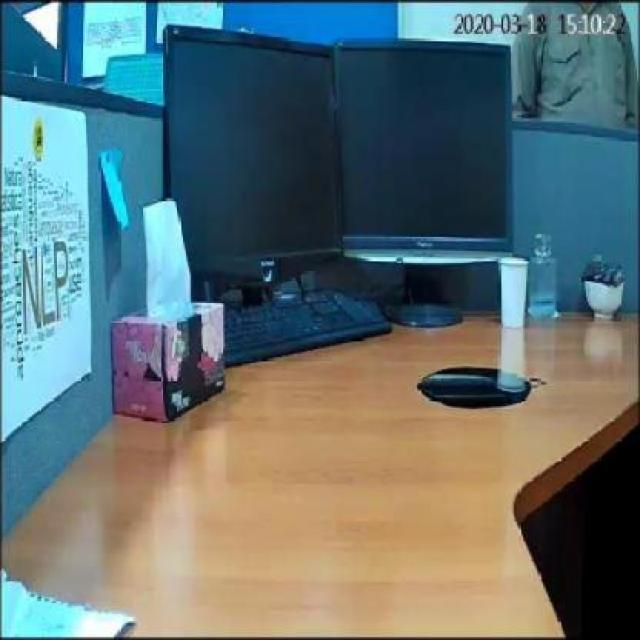spillage: (417, 367, 537, 412)
